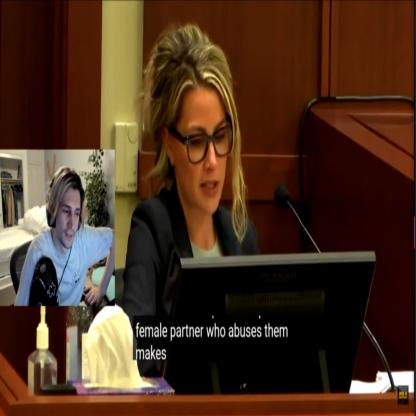streamer: (14, 166, 115, 306)
